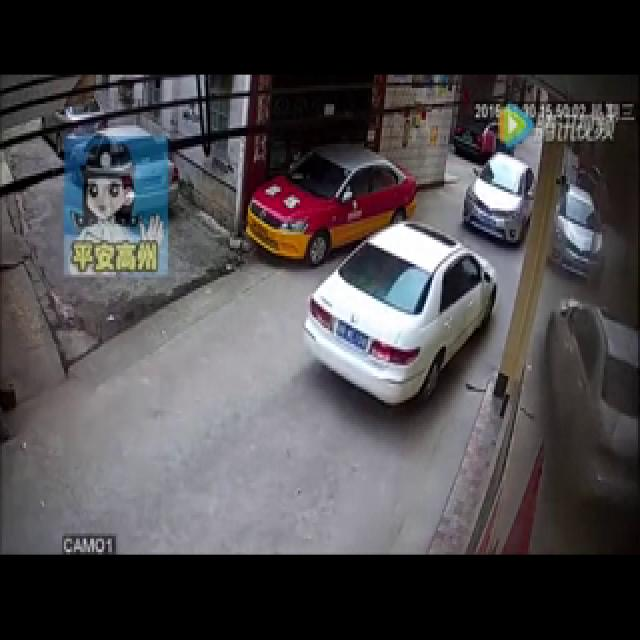arrest: (418, 87, 636, 350)
